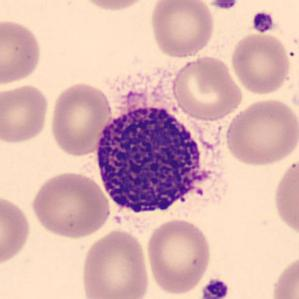Basophil: (89, 76, 232, 225)
Platelets: (200, 276, 231, 299), (251, 9, 275, 34), (208, 0, 239, 11)
RBC: (29, 170, 111, 240), (222, 95, 298, 168), (144, 217, 214, 296), (78, 226, 152, 299), (47, 80, 112, 157), (170, 54, 243, 122), (228, 31, 292, 97), (147, 0, 216, 59), (0, 17, 44, 88), (0, 82, 50, 144), (0, 192, 32, 268), (271, 155, 298, 239), (269, 251, 299, 299), (77, 0, 153, 13)
